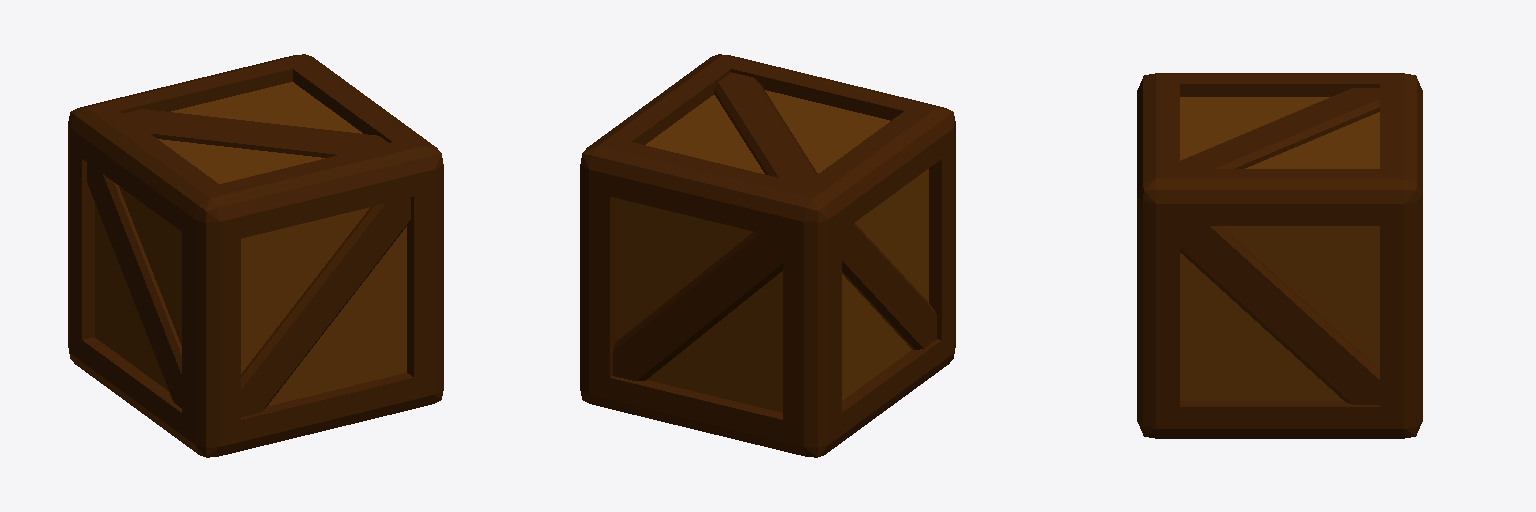
The model's file is Cube_Crate.obj.
3 views of the same model, side by side, from view 1: azimuth 30°, elevation 25°; view 2: azimuth 150°, elevation 25°; view 3: azimuth 270°, elevation 25° (orthographic).
Parts seen in each view (by area): view 1: Cube_Crate_Cube.038; view 2: Cube_Crate_Cube.038; view 3: Cube_Crate_Cube.038.
Part boxes in pixels (x1,y1,x2,y2): Cube_Crate_Cube.038: (68, 54, 443, 457); Cube_Crate_Cube.038: (580, 54, 955, 457); Cube_Crate_Cube.038: (1137, 73, 1422, 438).
Bounding box in the file's own units: 2.02 × 2.02 × 2.02.